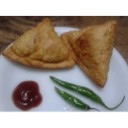samosa: (63, 16, 122, 84), (6, 18, 72, 70)
